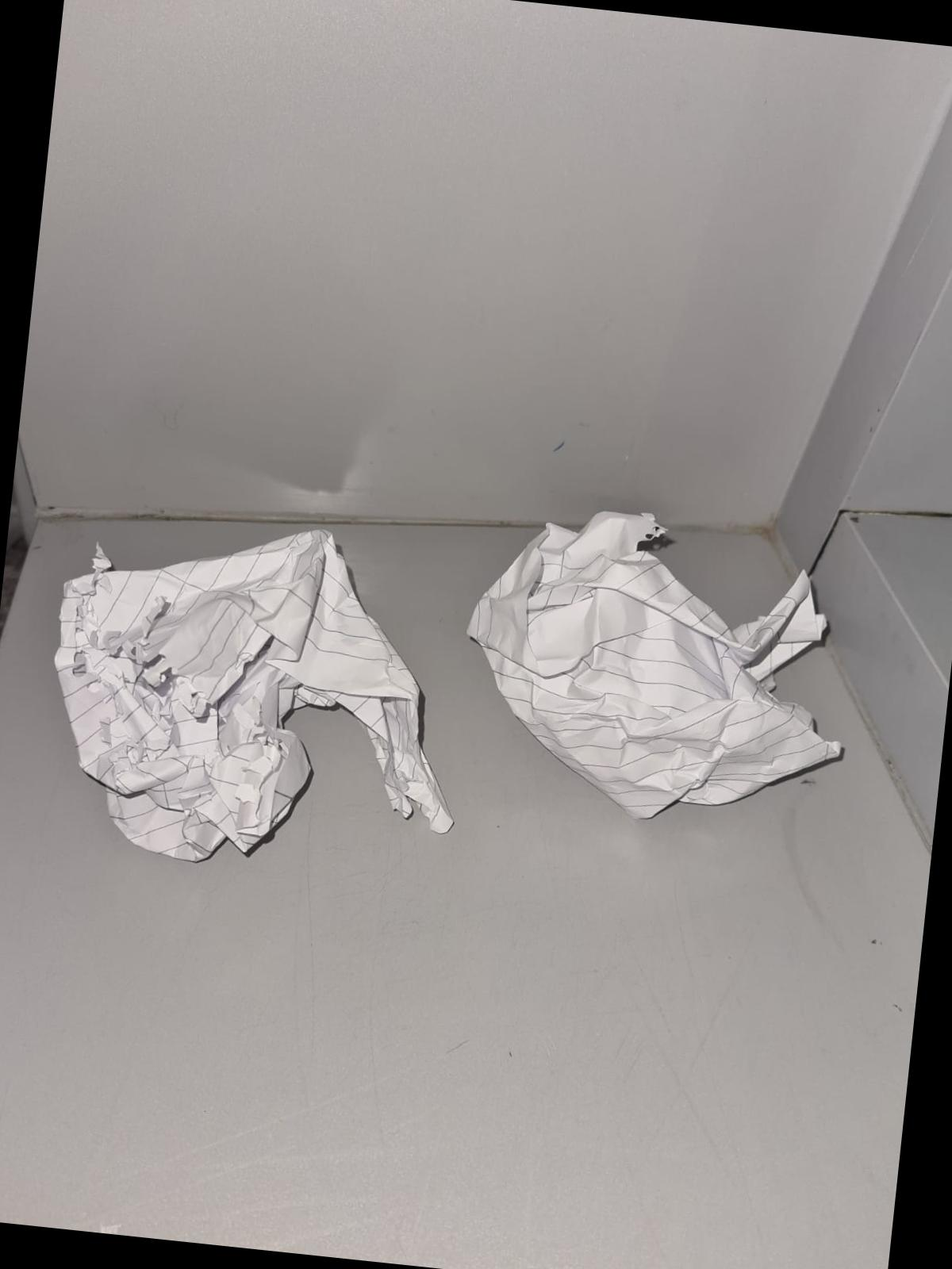Kertas: (447, 500, 869, 830), (54, 529, 451, 862), (470, 514, 838, 816)
